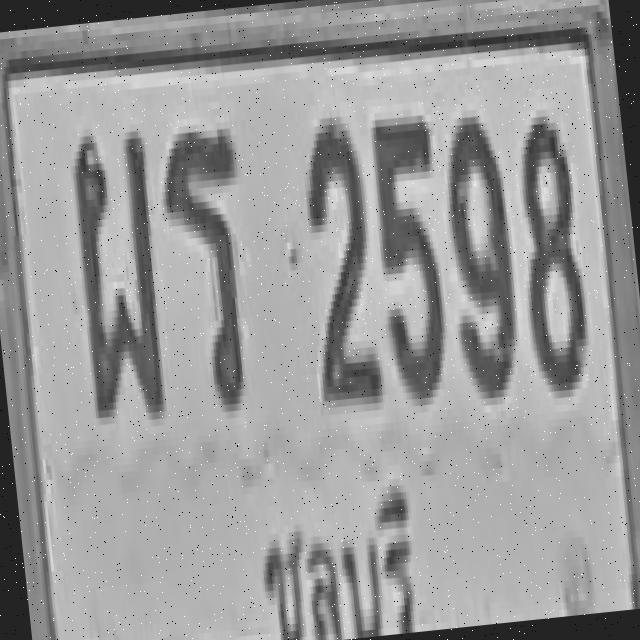2: (292, 115, 382, 408)
37PhorPhueng: (65, 126, 171, 422)
44RorRuea: (156, 120, 262, 416)
5: (366, 111, 456, 404)
8: (508, 107, 594, 393)
9: (436, 107, 524, 400)
Chonburi: (237, 455, 434, 640)
